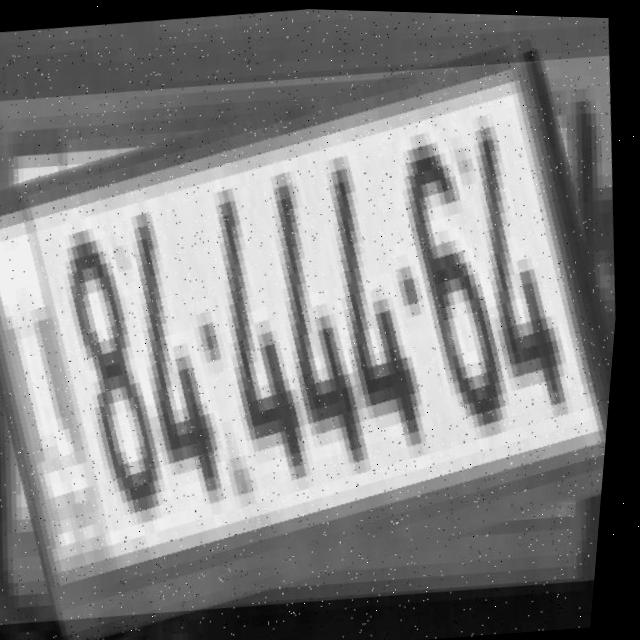LicensePlate: (0, 36, 638, 639)
